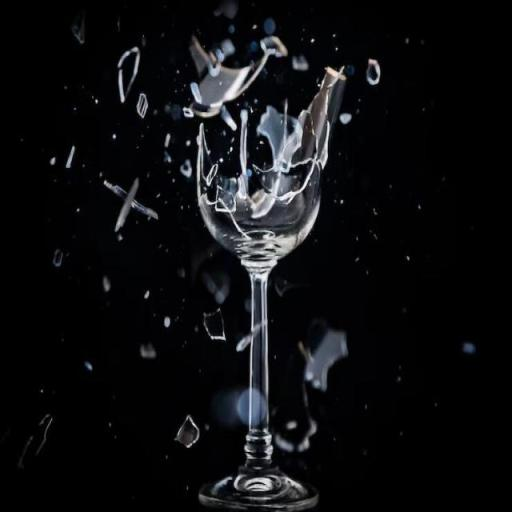glass: (191, 73, 341, 505), (110, 38, 145, 108), (200, 265, 229, 303), (238, 321, 266, 353), (174, 414, 200, 448), (34, 414, 54, 456), (202, 308, 226, 341), (19, 434, 35, 466), (214, 0, 238, 20), (71, 10, 85, 44), (220, 104, 237, 130), (216, 38, 235, 60), (366, 59, 380, 85), (136, 92, 148, 119), (292, 54, 309, 71), (140, 342, 156, 358), (190, 82, 202, 103), (208, 59, 221, 78), (65, 146, 76, 168), (180, 159, 192, 179), (263, 18, 276, 35), (170, 104, 182, 122), (53, 249, 64, 268), (462, 342, 476, 354), (340, 112, 352, 124), (102, 276, 111, 292), (183, 106, 194, 118), (344, 65, 355, 76), (164, 150, 172, 164)
